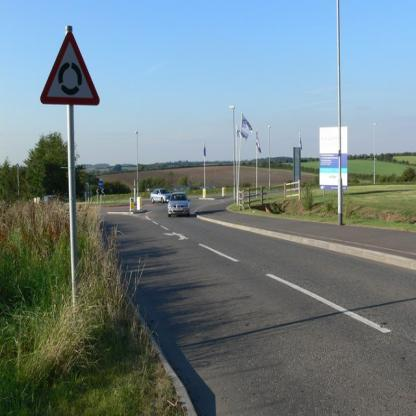road_sign: (40, 27, 99, 104)
